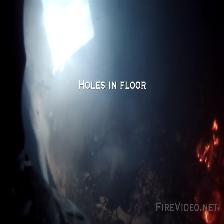fire: (184, 121, 224, 224)
nofire: (25, 1, 114, 64)
